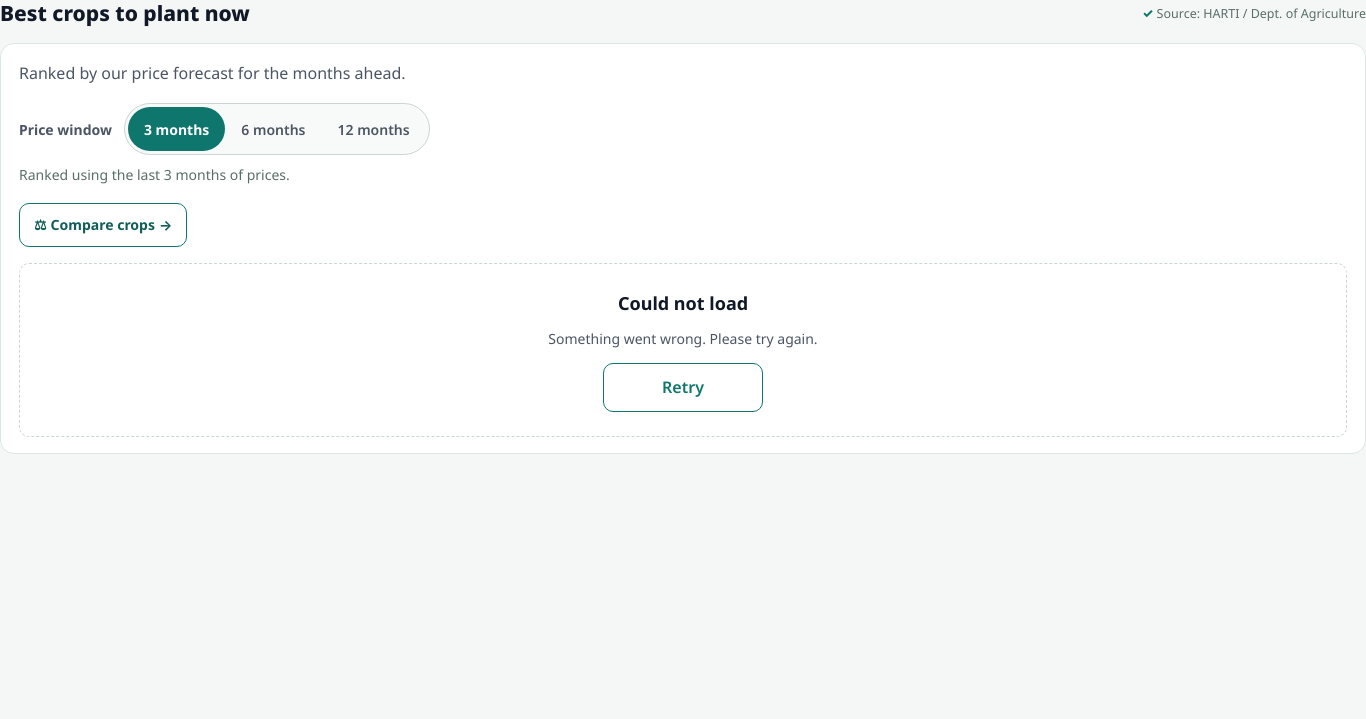
Test: BestCropsPage (FE-7) › shows an error state with a working retry
This screenshot has width=1366, height=719.
Expected: the message "Could not load Something went wrong. Please try again. Retry" is shown, [19,263,1347,437]
Click the button "Retry" at (683, 387), box [603,363,763,412]
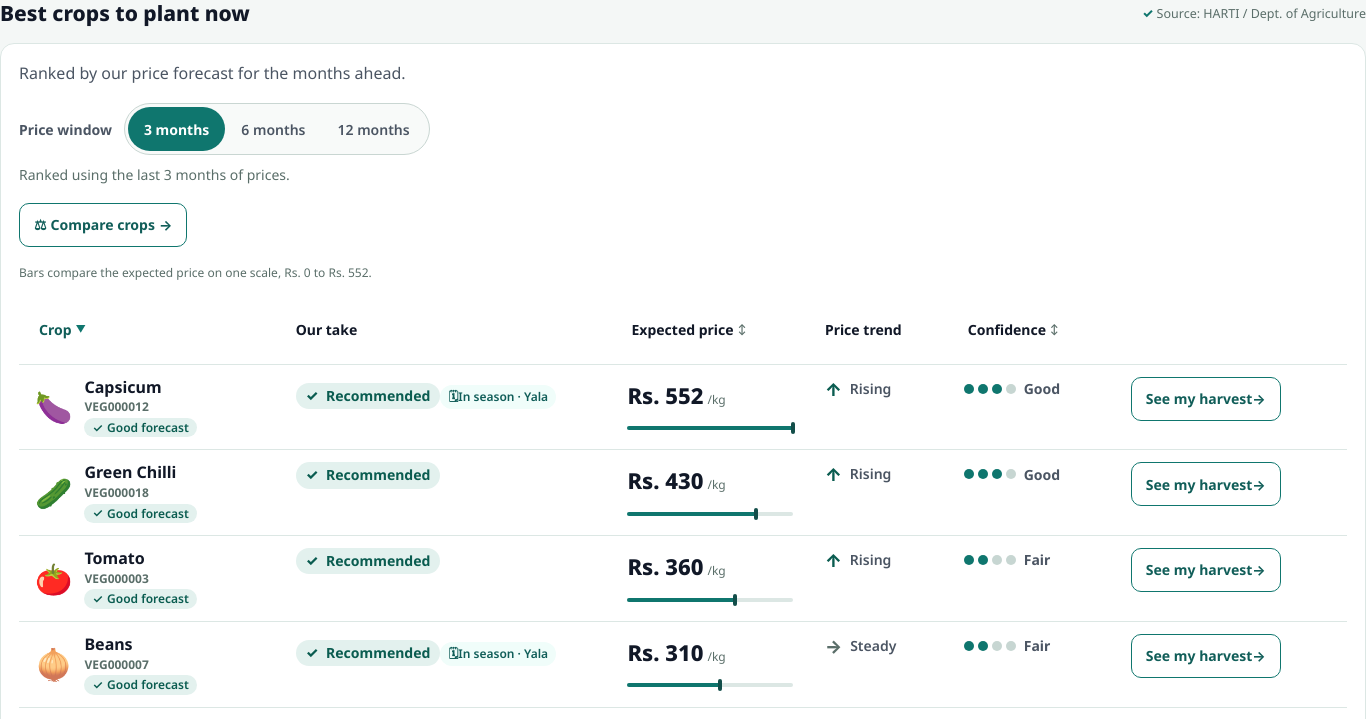
Now the text "Capsicum" is shown, box [84,376,161,398]
